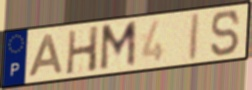4: (139, 18, 168, 65)
A: (26, 32, 64, 79)
H: (65, 24, 101, 76)
I: (186, 11, 202, 64)
M: (98, 19, 139, 74)
S: (209, 9, 242, 59)
